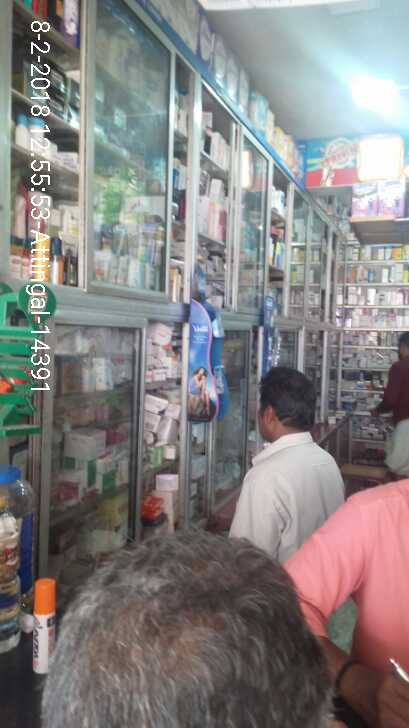reject: (18, 97, 118, 173)
